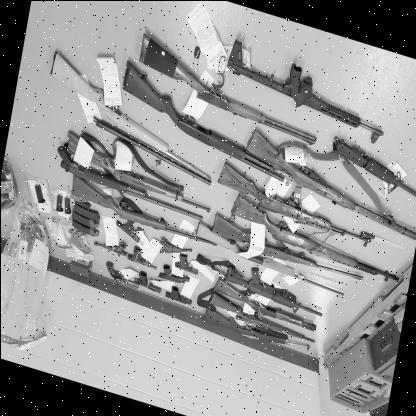rifle: (35, 51, 230, 191), (132, 22, 324, 148), (223, 189, 398, 283), (218, 258, 324, 322)
